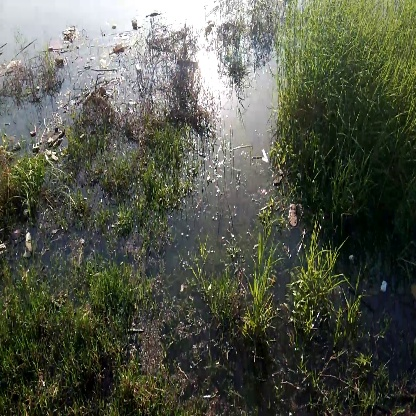grass: (286, 240, 345, 338)
